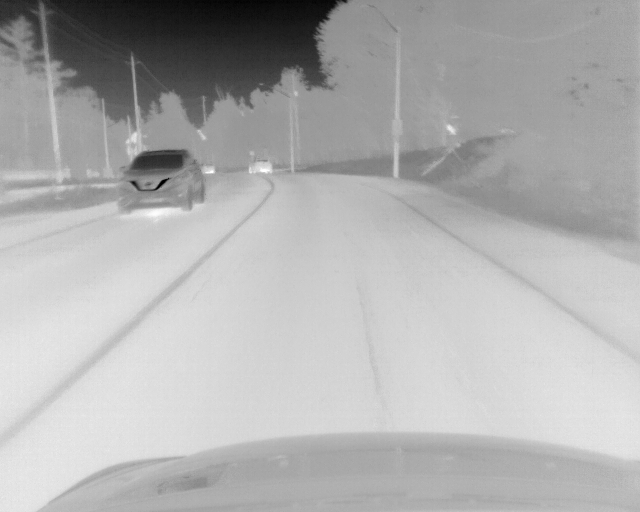car: (118, 149, 207, 214), (247, 157, 273, 175), (200, 163, 216, 174)
